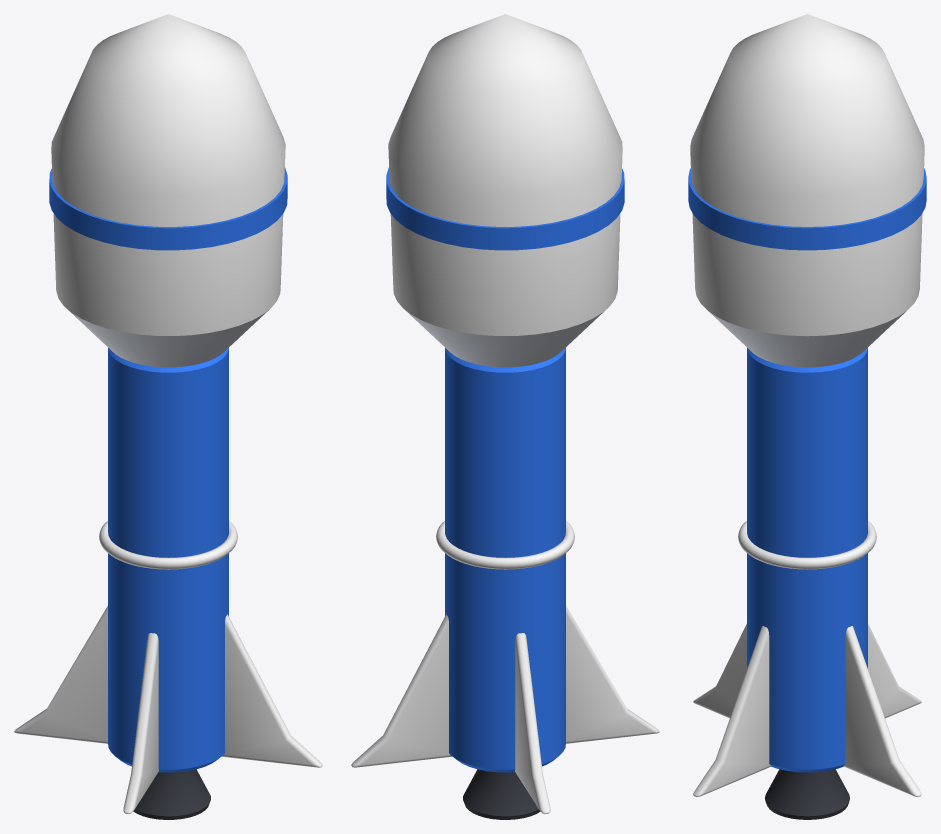
File: Rocket_17_Hammerhead.fbx
The picture shows the model from 3 angles, left to right: view 1: azimuth 30°, elevation 25°; view 2: azimuth 150°, elevation 25°; view 3: azimuth 270°, elevation 25°; orthographic projection.
Parts seen in each view (by area): view 1: R17_Fairing, R17_Body, R17_Fin_4, R17_Band, R17_Fin_2, R17_Adapter, R17_Fin_3, R17_Nozzle, R17_Belt; view 2: R17_Fairing, R17_Body, R17_Fin, R17_Band, R17_Fin_3, R17_Adapter, R17_Fin_2, R17_Nozzle, R17_Belt; view 3: R17_Fairing, R17_Body, R17_Band, R17_Fin, R17_Fin_4, R17_Adapter, R17_Nozzle, R17_Belt, R17_Fin_2, R17_Fin_3.
Boxes of the visible parts, x1,y1,x2,y2 form: R17_Fairing: (51, 14, 285, 335); R17_Body: (108, 348, 228, 772); R17_Fin_4: (222, 614, 322, 767); R17_Band: (49, 167, 287, 250); R17_Fin_2: (14, 606, 107, 743); R17_Adapter: (65, 307, 269, 367); R17_Fin_3: (123, 633, 158, 813); R17_Nozzle: (133, 769, 210, 819); R17_Belt: (99, 521, 237, 569); R17_Fairing: (388, 14, 622, 335); R17_Body: (445, 348, 565, 772); R17_Fin: (351, 614, 451, 767); R17_Band: (386, 167, 624, 250); R17_Fin_3: (566, 606, 659, 743); R17_Adapter: (404, 307, 608, 367); R17_Fin_2: (515, 633, 550, 813); R17_Nozzle: (463, 769, 540, 819); R17_Belt: (436, 521, 574, 569); R17_Fairing: (690, 14, 924, 336); R17_Body: (747, 348, 867, 772); R17_Band: (688, 168, 926, 250); R17_Fin: (843, 626, 921, 796); R17_Fin_4: (693, 626, 771, 796); R17_Adapter: (708, 311, 906, 367); R17_Nozzle: (765, 769, 849, 819); R17_Belt: (738, 521, 876, 569); R17_Fin_2: (868, 624, 921, 718); R17_Fin_3: (693, 624, 746, 718).
Size of the model in its own units: 2.44 by 8.9 by 2.44.
